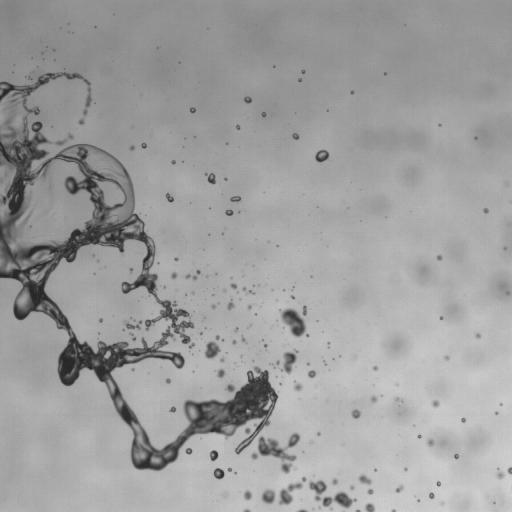droplet: (204, 335, 220, 359), (261, 489, 276, 503), (315, 149, 329, 162), (358, 474, 371, 484), (213, 468, 224, 479), (205, 173, 215, 184), (209, 450, 218, 461), (216, 368, 225, 378), (351, 409, 361, 418), (243, 490, 252, 500), (365, 502, 375, 511), (294, 381, 302, 391), (496, 469, 504, 479), (227, 300, 234, 310), (395, 484, 403, 492), (166, 193, 173, 202), (308, 370, 316, 377), (431, 400, 439, 407), (427, 438, 434, 446), (270, 361, 279, 367), (244, 96, 251, 103), (370, 395, 377, 402), (302, 306, 307, 315), (292, 133, 299, 139), (230, 283, 237, 289), (169, 406, 176, 412), (185, 448, 192, 454), (225, 210, 233, 215), (78, 118, 84, 124), (171, 272, 177, 278), (241, 336, 246, 343), (332, 478, 337, 485), (507, 466, 511, 474), (190, 107, 195, 113), (436, 255, 442, 260), (454, 453, 459, 459), (367, 489, 373, 494), (429, 492, 434, 498), (141, 143, 146, 148), (129, 145, 134, 150), (483, 208, 488, 213), (475, 333, 480, 338), (395, 397, 401, 401), (243, 508, 250, 511), (220, 357, 224, 362), (444, 356, 449, 360), (372, 366, 377, 370), (166, 378, 170, 383), (436, 481, 440, 486), (350, 90, 354, 94), (261, 112, 265, 116), (235, 125, 239, 129), (171, 160, 175, 164), (211, 304, 215, 308), (232, 340, 236, 344), (461, 418, 465, 422), (350, 485, 354, 489), (301, 70, 305, 73), (174, 257, 178, 260), (129, 268, 132, 272), (291, 295, 294, 299), (247, 305, 251, 308), (99, 318, 102, 322), (235, 327, 238, 331), (223, 493, 227, 496), (355, 509, 360, 511), (391, 509, 396, 511), (317, 432, 320, 435), (418, 435, 421, 438), (228, 468, 231, 471), (440, 502, 444, 504), (223, 289, 226, 291), (506, 292, 509, 294), (264, 345, 267, 347), (495, 411, 497, 414), (374, 468, 376, 471), (404, 468, 407, 470), (29, 77, 31, 79), (224, 178, 226, 180), (504, 247, 506, 249), (191, 292, 193, 294), (247, 326, 249, 328), (199, 332, 201, 334), (307, 362, 309, 364), (324, 362, 326, 364), (279, 383, 281, 385)
ligament: (0, 76, 300, 473), (308, 480, 356, 510), (279, 308, 309, 337), (278, 477, 306, 505), (280, 349, 298, 373), (54, 134, 73, 145), (185, 270, 200, 279), (242, 287, 253, 294), (230, 196, 241, 201), (130, 332, 135, 340), (297, 509, 307, 511)
